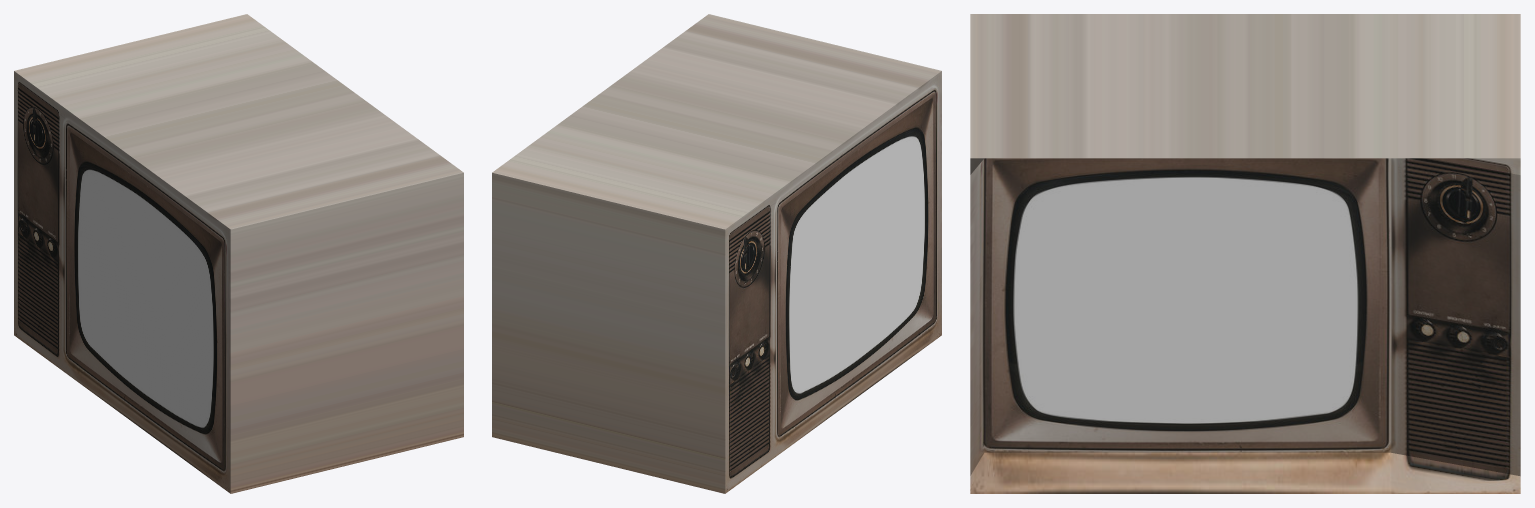
The picture shows the model from 3 angles, left to right: view 1: azimuth 30°, elevation 25°; view 2: azimuth 150°, elevation 25°; view 3: azimuth 270°, elevation 25°; orthographic projection. The views are drawn at different scales.
Visible parts, largest first — view 1: old tv image; view 2: old tv image; view 3: old tv image.
Part boxes in pixels (bbox=[...]): old tv image: bbox=[14, 14, 463, 493]; old tv image: bbox=[492, 14, 941, 493]; old tv image: bbox=[970, 14, 1520, 493].
Bounding box in the file's own units: 92.29 × 100 × 149.
1 material, 1 textured.
